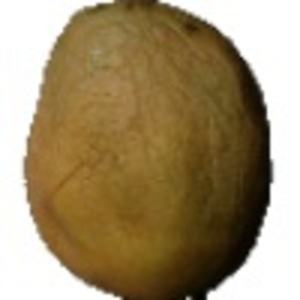mamão: (19, 3, 276, 296)
